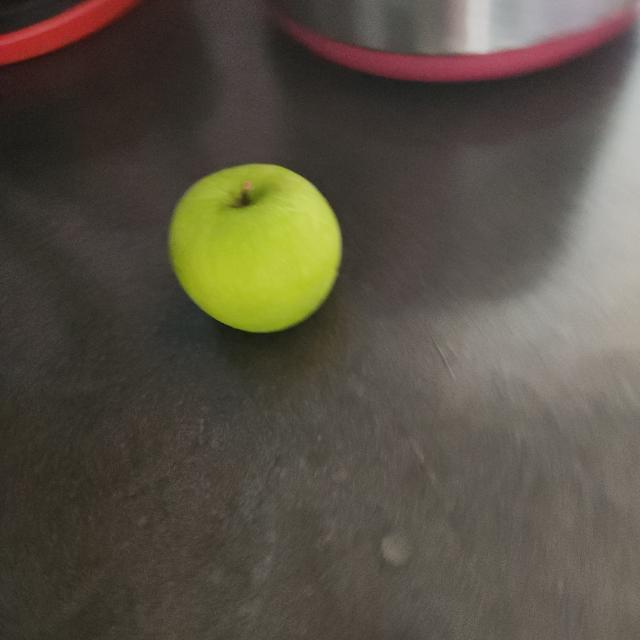apple: (165, 156, 351, 340)
